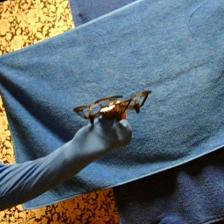drone: (73, 88, 153, 124)
